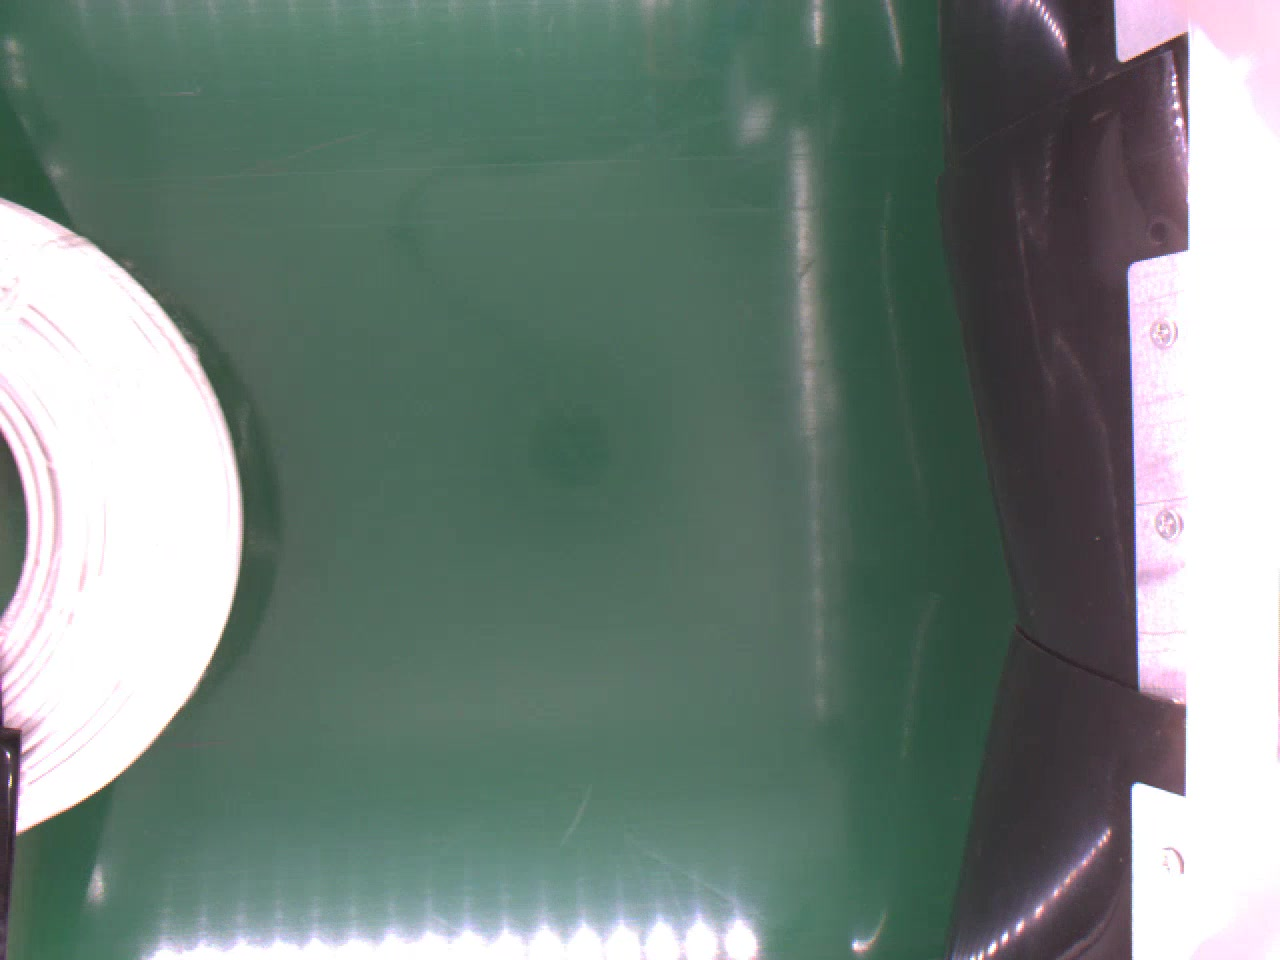white: (0, 201, 247, 834)
